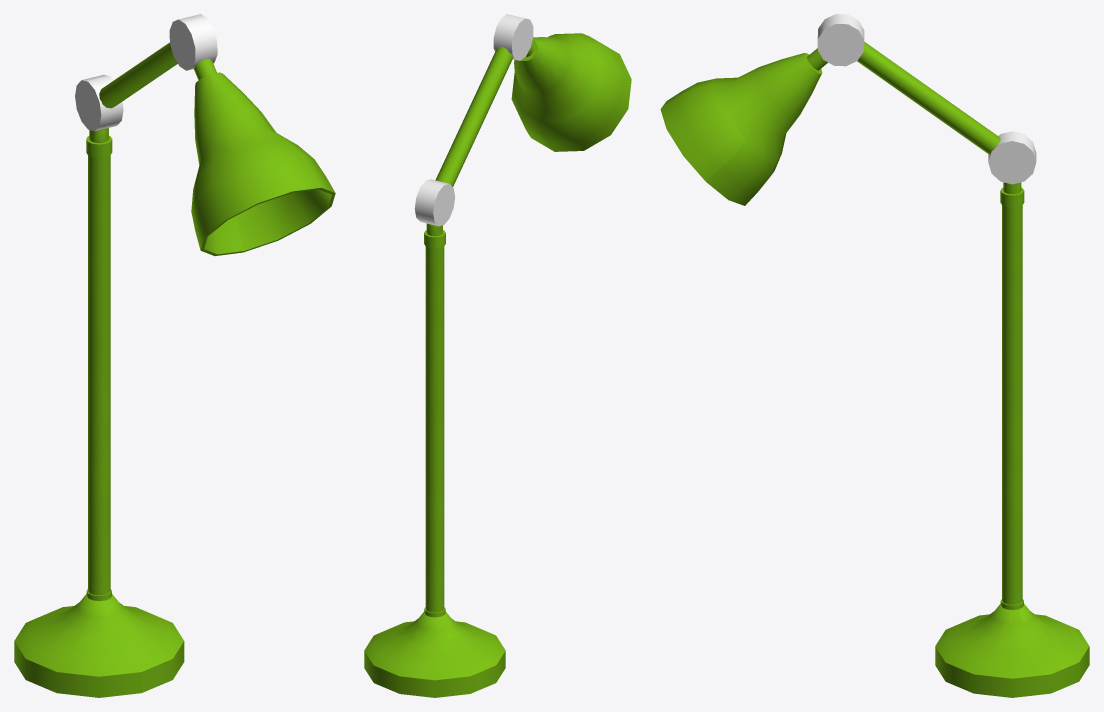
The model's file is green_desk_lamp.obj.
3 views of the same model, side by side, from view 1: azimuth 30°, elevation 25°; view 2: azimuth 150°, elevation 25°; view 3: azimuth 270°, elevation 25° (orthographic). The views are drawn at different scales.
Visible parts, largest first — view 1: green_desk_lamp; view 2: green_desk_lamp; view 3: green_desk_lamp.
Boxes of the visible parts, bbox=[...] form: green_desk_lamp: bbox=[14, 14, 335, 697]; green_desk_lamp: bbox=[364, 14, 631, 697]; green_desk_lamp: bbox=[660, 14, 1089, 697].
Size of the model in its own units: 0.1122 by 0.5188 by 0.312.
